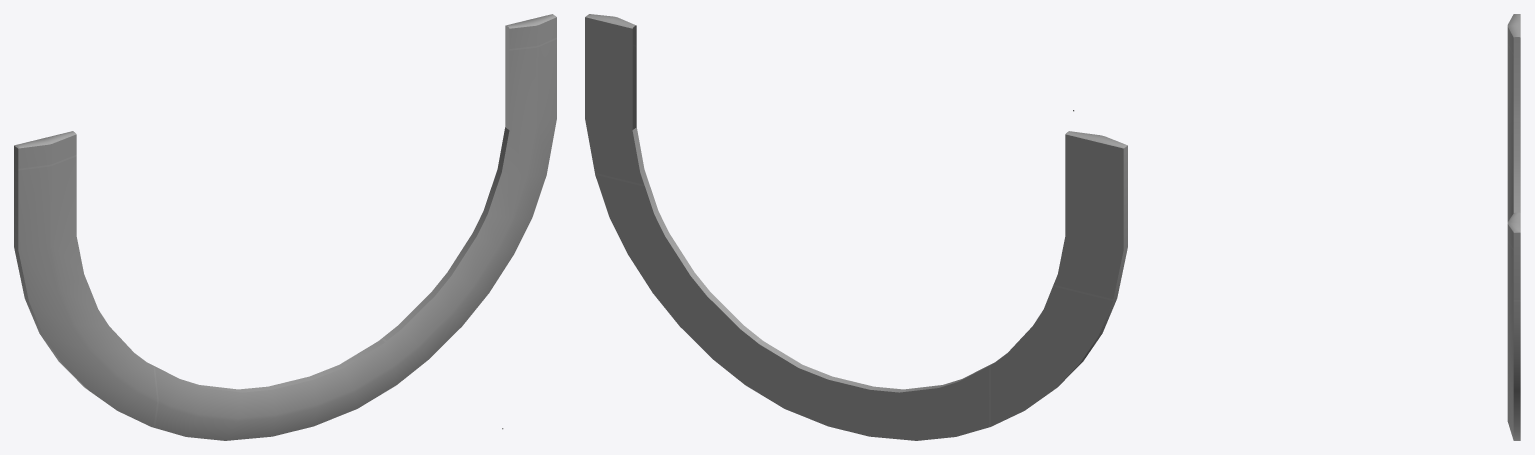
The model's file is MeshTelevisionStand_21_1_GeomSubset_1.obj.
The picture shows the model from 3 angles, left to right: view 1: azimuth 30°, elevation 25°; view 2: azimuth 150°, elevation 25°; view 3: azimuth 270°, elevation 25°; orthographic projection. The views are drawn at different scales.
Visible parts, largest first — view 1: MeshTelevisionStand_21_1_GeomSubset_1; view 2: MeshTelevisionStand_21_1_GeomSubset_1; view 3: MeshTelevisionStand_21_1_GeomSubset_1.
Part boxes in pixels (x1=…): MeshTelevisionStand_21_1_GeomSubset_1: x1=14, y1=14, x2=556, y2=440; MeshTelevisionStand_21_1_GeomSubset_1: x1=585, y1=14, x2=1127, y2=440; MeshTelevisionStand_21_1_GeomSubset_1: x1=1507, y1=14, x2=1520, y2=440.
Bounding box in the file's own units: 0.6544 × 0.4073 × 0.4615.
